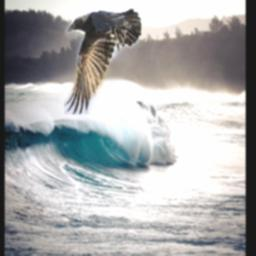Crow: (64, 9, 141, 114)
